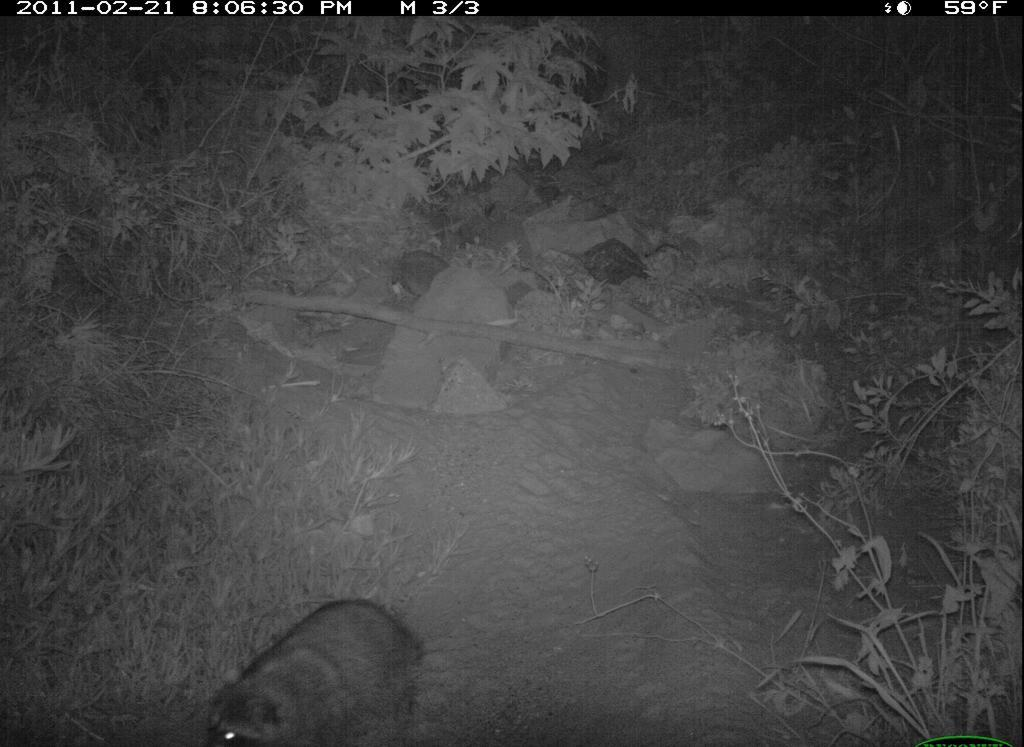raccoon: (172, 570, 423, 747)
